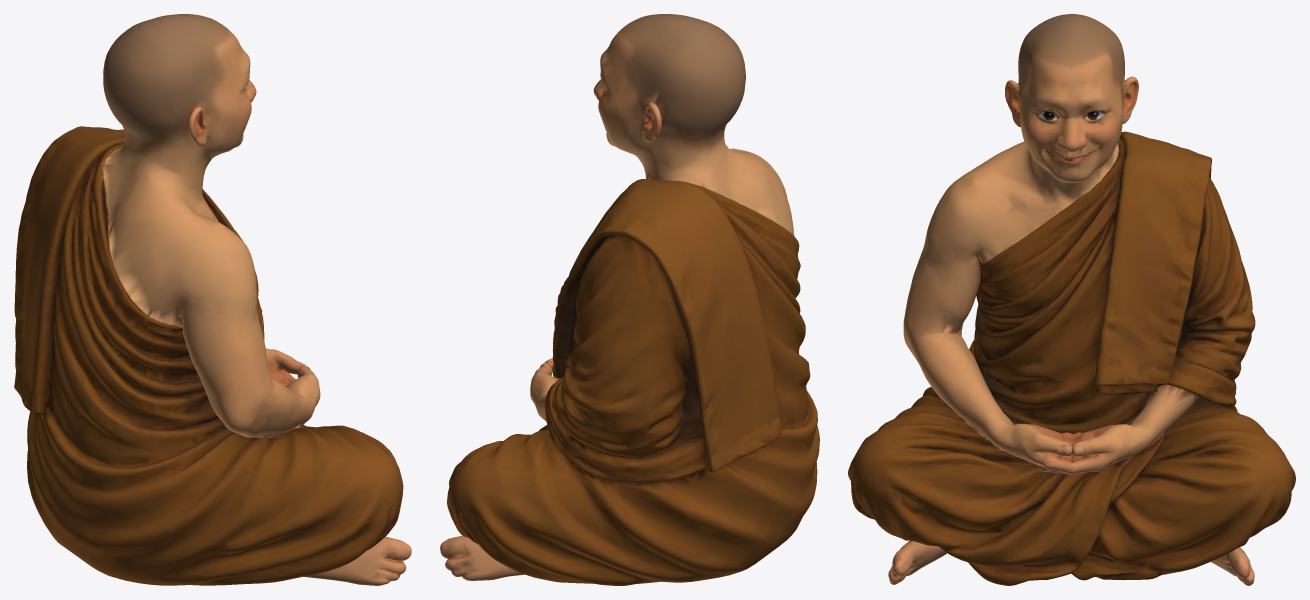
File: monk.glb
The picture shows the model from 3 angles, left to right: view 1: azimuth 30°, elevation 25°; view 2: azimuth 150°, elevation 25°; view 3: azimuth 270°, elevation 25°; orthographic projection. The views are drawn at different scales.
Parts seen in each view (by area): view 1: tripo_node_68edc1d4-5519-4601-83bb-02a93ccef753; view 2: tripo_node_68edc1d4-5519-4601-83bb-02a93ccef753; view 3: tripo_node_68edc1d4-5519-4601-83bb-02a93ccef753.
Boxes of the visible parts, left/top/right/bottom form: tripo_node_68edc1d4-5519-4601-83bb-02a93ccef753: left=14, top=14, right=411, bottom=585; tripo_node_68edc1d4-5519-4601-83bb-02a93ccef753: left=440, top=14, right=819, bottom=585; tripo_node_68edc1d4-5519-4601-83bb-02a93ccef753: left=848, top=14, right=1295, bottom=585.
Size of the model in its own units: 0.5388 by 0.9998 by 0.804.
Materials: 1 (1 with a texture image).
